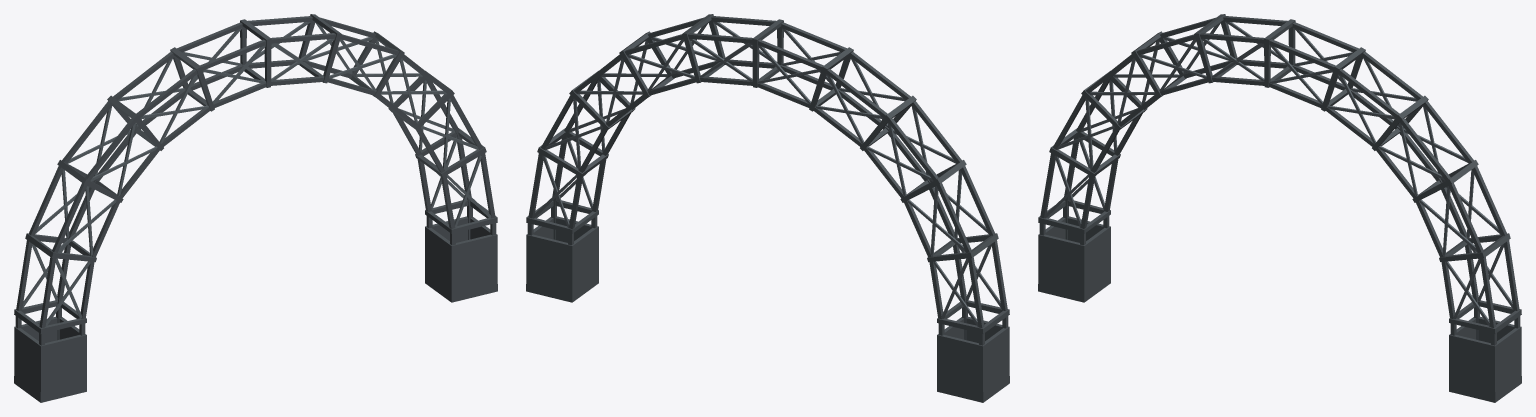
Rendered from SM_Prop_Gantry_Round_01.fbx.
3 renders of one model, left to right at view 1: azimuth 30°, elevation 25°; view 2: azimuth 150°, elevation 25°; view 3: azimuth 330°, elevation 25°, orthographic.
Visible parts, largest first — view 1: SM_Prop_Gantry_Round_01; view 2: SM_Prop_Gantry_Round_01; view 3: SM_Prop_Gantry_Round_01.
Part boxes in pixels (x1,y1,x2,y2): SM_Prop_Gantry_Round_01: (14, 14, 497, 402); SM_Prop_Gantry_Round_01: (526, 14, 1009, 402); SM_Prop_Gantry_Round_01: (1038, 14, 1521, 402).
Size of the model in its own units: 1241 by 799 by 125.
